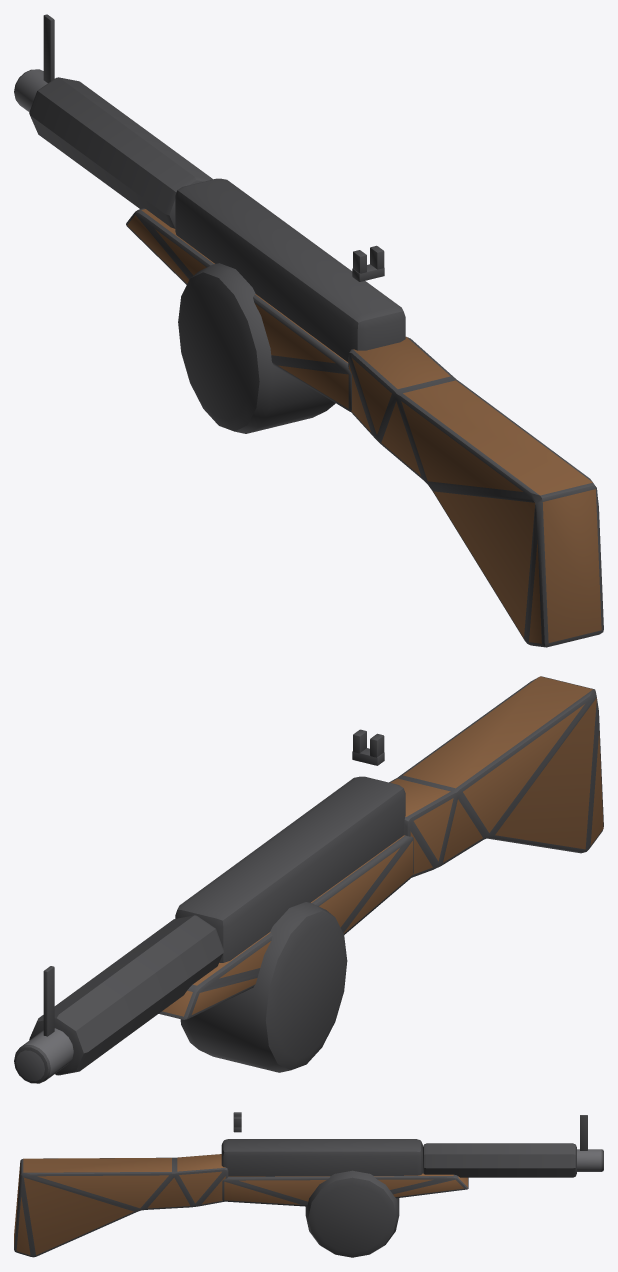
The model's file is ppsh41.glb.
3 renders of one model, top to bottom at view 1: azimuth 30°, elevation 25°; view 2: azimuth 150°, elevation 25°; view 3: azimuth 270°, elevation 25°, orthographic. The views are drawn at different scales.
Parts seen in each view (by area): view 1: ppsh41_LOD0; view 2: ppsh41_LOD0; view 3: ppsh41_LOD0.
Part boxes in pixels (box(x1,y1,x2,y2)): ppsh41_LOD0: box(14, 14, 603, 647); ppsh41_LOD0: box(14, 676, 603, 1083); ppsh41_LOD0: box(14, 1112, 603, 1257).
Size of the model in its own units: 0.09 by 0.2221 by 0.8797.
